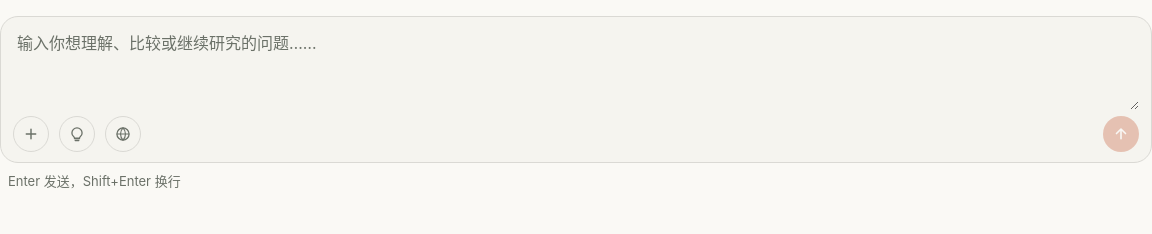
Scenario: ChatComposer › 附件按钮功能未就绪，点击显示克制提示，再次点击收起
Click the button named "添加附件（后续版本提供）" at (31, 134), box [13, 116, 49, 152]
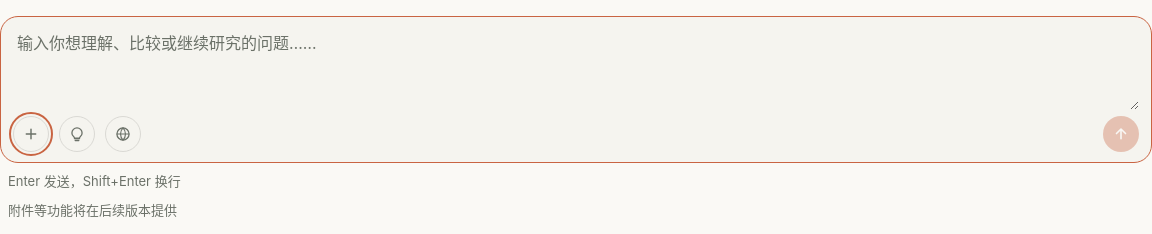
Expected: the text "附件等功能将在后续版本提供" is shown, [8, 202, 177, 218]
Click the button named "添加附件（后续版本提供）" at (31, 134), box [13, 116, 49, 152]
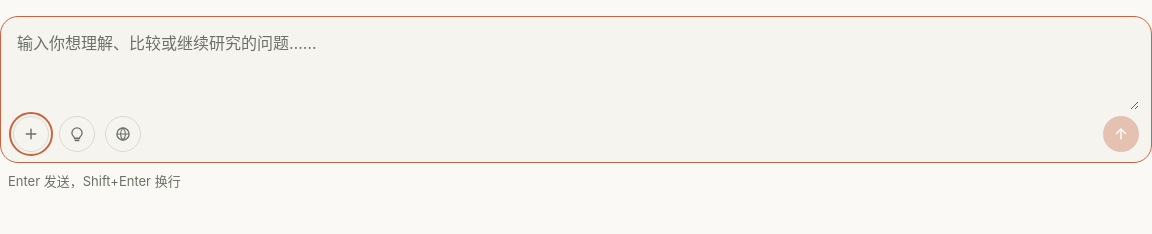
Expected: the text "附件等功能将在后续版本提供" is gone
